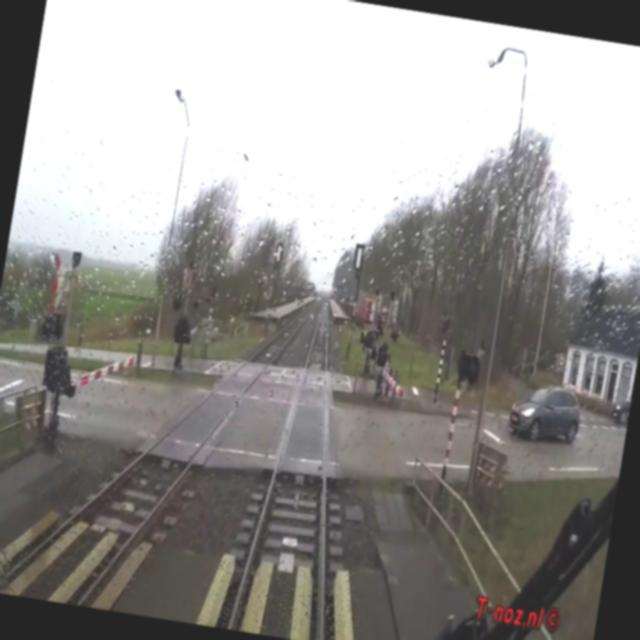rail: (185, 297, 352, 640)
